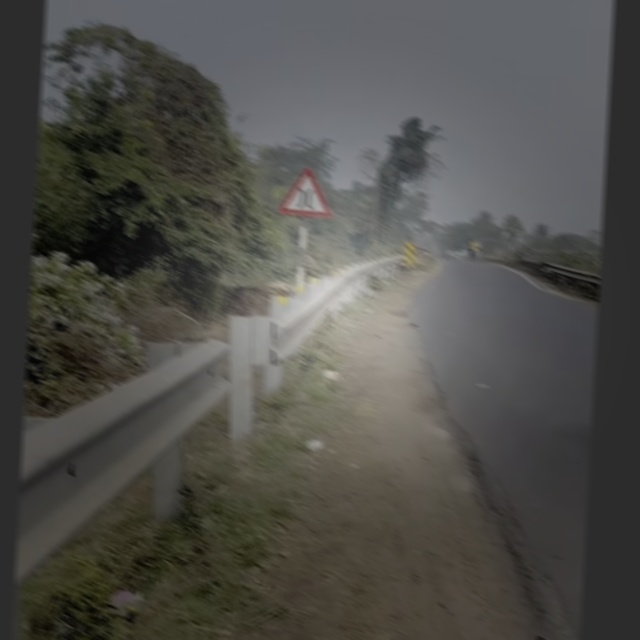Narrow_Bridge: (280, 165, 333, 218)
